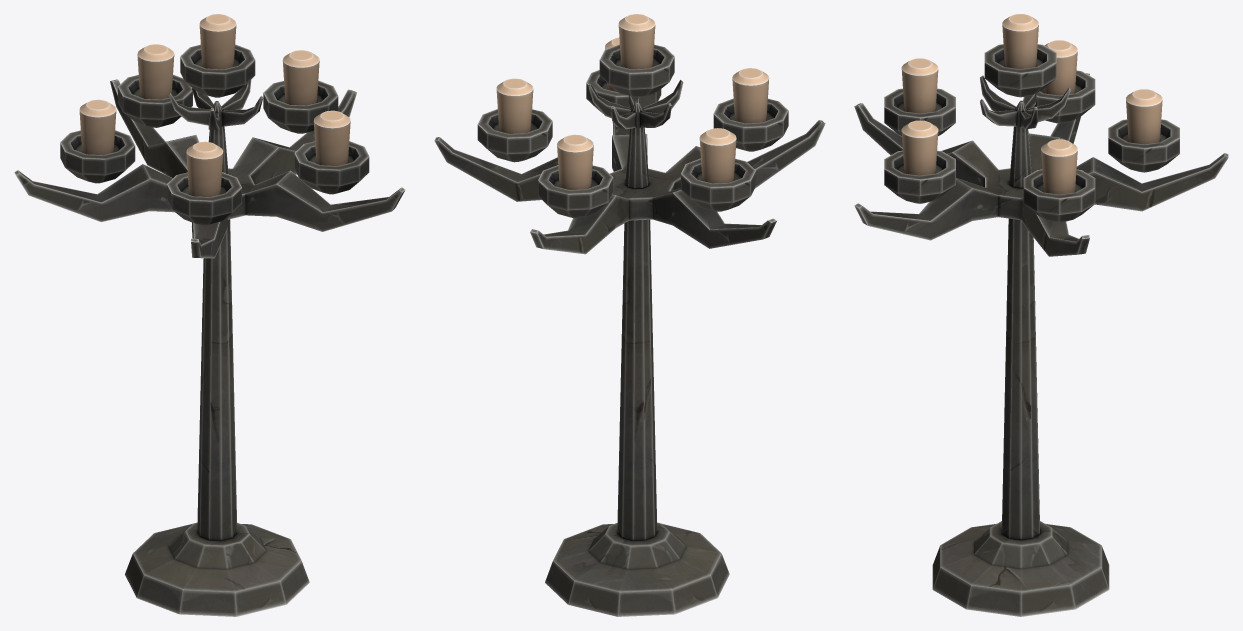
Rendered from candle_def.obj.
3 views of the same model, side by side, from view 1: azimuth 30°, elevation 25°; view 2: azimuth 150°, elevation 25°; view 3: azimuth 270°, elevation 25° (orthographic).
Visible parts, largest first — view 1: candle_base1, candle6, candle4, candle2, candle3, candle1, candle5; view 2: candle_base1, candle1, candle5, candle6, candle2, candle3, candle4; view 3: candle_base1, candle5, candle6, candle4, candle1, candle3, candle2.
Boxes of the visible parts, x1,y1,x2,y2 form: candle_base1: (14, 79, 405, 616); candle6: (180, 14, 255, 97); candle4: (294, 110, 369, 194); candle2: (60, 99, 135, 183); candle3: (167, 141, 241, 225); candle1: (118, 44, 192, 127); candle5: (263, 50, 338, 133); candle_base1: (434, 80, 825, 616); candle1: (538, 134, 613, 218); candle5: (477, 78, 552, 162); candle6: (599, 14, 674, 97); candle2: (681, 128, 755, 211); candle3: (713, 68, 788, 151); candle4: (586, 37, 661, 113); candle_base1: (854, 73, 1228, 616); candle5: (1023, 139, 1095, 222); candle6: (984, 14, 1056, 97); candle4: (884, 120, 955, 203); candle1: (1108, 89, 1179, 172); candle3: (884, 58, 955, 135); candle2: (1034, 40, 1095, 123).
Size of the model in its own units: 3.23 by 5.06 by 3.07.
Materials: 1 (1 with a texture image).
